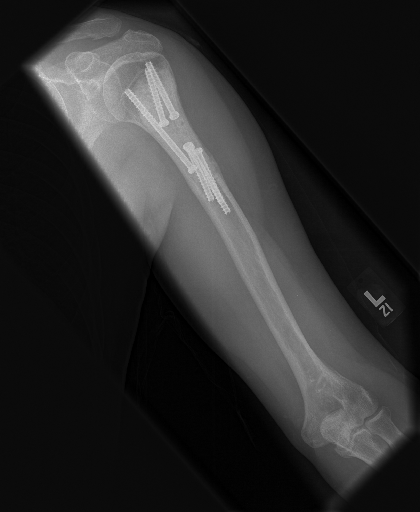implant: (122, 58, 231, 217)
